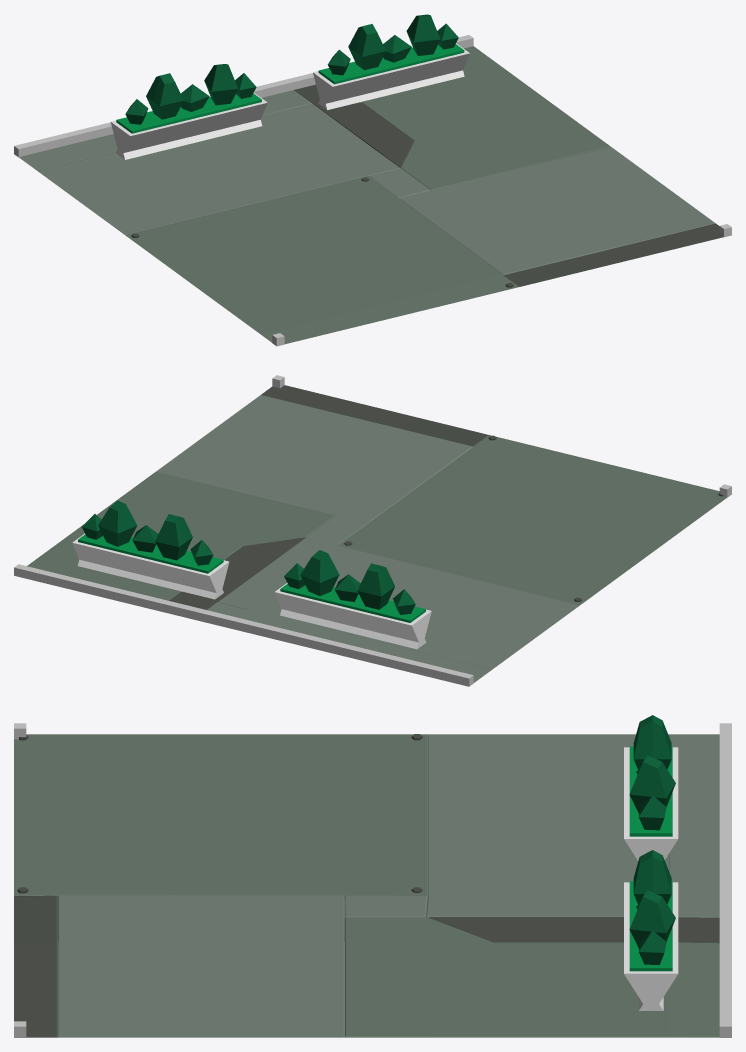
3 renders of one model, top to bottom at view 1: azimuth 30°, elevation 25°; view 2: azimuth 150°, elevation 25°; view 3: azimuth 270°, elevation 25°, orthographic. The views are drawn at different scales.
Visible parts, largest first — view 1: Scifi_Panel_04_Plaza014_group4.042_Scifi_Panel_04_Plaza014_group, base_pot.023_base_pot.027, base_pot.022_base_pot.026, Cube.1143_Cube.1272; view 2: Scifi_Panel_04_Plaza014_group4.042_Scifi_Panel_04_Plaza014_group, base_pot.023_base_pot.027, base_pot.022_base_pot.026, Cube.1143_Cube.1272; view 3: Scifi_Panel_04_Plaza014_group4.042_Scifi_Panel_04_Plaza014_group, base_pot.022_base_pot.026, base_pot.023_base_pot.027, Cube.1143_Cube.1272.
Boxes of the visible parts, <box> form: Scifi_Panel_04_Plaza014_group4.042_Scifi_Panel_04_Plaza014_group: <box>19,46,723,344</box>; base_pot.023_base_pot.027: <box>110,64,267,159</box>; base_pot.022_base_pot.026: <box>313,14,469,109</box>; Cube.1143_Cube.1272: <box>14,35,473,157</box>; Scifi_Panel_04_Plaza014_group4.042_Scifi_Panel_04_Plaza014_group: <box>27,385,726,682</box>; base_pot.023_base_pot.027: <box>274,550,431,649</box>; base_pot.022_base_pot.026: <box>72,500,229,599</box>; Cube.1143_Cube.1272: <box>14,564,473,686</box>; Scifi_Panel_04_Plaza014_group4.042_Scifi_Panel_04_Plaza014_group: <box>14,734,719,1037</box>; base_pot.022_base_pot.026: <box>624,850,678,1010</box>; base_pot.023_base_pot.027: <box>624,715,678,860</box>; Cube.1143_Cube.1272: <box>719,723,731,1037</box>.
Bounding box in the file's own units: 10 × 1.51 × 10.
